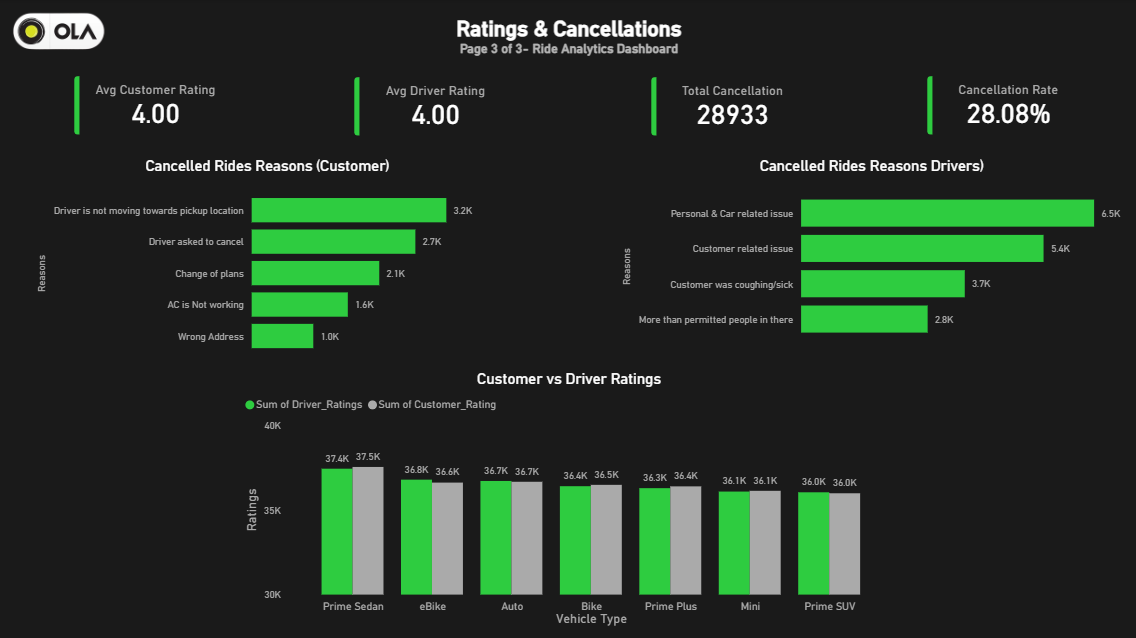

Layout of this report page (visuals, bound fields, positions):
{"tool":"powerbi","page":{"name":"Ratings & Cancellations","canvas":[1280,720],"ordinal":2},"visuals":[{"type":"image","box":[13.8,13.8,105,48.8],"z":0},{"type":"textbox","box":[413.8,14.1,452.4,91.2],"z":1000},{"type":"barChart","title":"Cancelled Rides Reasons (Customer)","fields":{"Category":["July.Canceled_Rides_by_Customer"],"Y":["CountNonNull(July.Canceled_Rides_by_Customer)"]},"box":[37.3,177.3,526.9,235.2],"z":2000},{"type":"barChart","title":"Cancelled Rides Reasons Drivers)","fields":{"Category":["July.Canceled_Rides_by_Driver"],"Y":["CountNonNull(July.Canceled_Rides_by_Driver)"]},"box":[695.3,177.3,570.6,219.8],"z":6000},{"type":"clusteredColumnChart","title":"Customer vs Driver Ratings","fields":{"Category":["July.Vehicle_Type"],"Y":["Sum(July.Driver_Ratings)","Sum(July.Customer_Rating)"]},"box":[269.9,417.7,740.2,293],"z":7000},{"type":"cardVisual","fields":{"Data":["Avg(July.Customer_Rating)"]},"box":[66.8,70.2,217.2,100.2],"z":7001},{"type":"cardVisual","fields":{"Data":["Avg(July.Driver_Ratings)"]},"box":[381.7,70.7,217.2,100.2],"z":7002},{"type":"cardVisual","fields":{"Data":["CountNonNull(July.Booking_Status)"]},"box":[715.8,70.7,217.2,100.2],"z":7003},{"type":"cardVisual","fields":{"Data":["July.CancelledPercentage"]},"box":[1025.5,70.2,217.2,100.2],"z":7004}]}

Visuals, with their boxes in screenshot pixels (x1, y1, x2, y2), scaled from the page's 1280x720 canvas onto the 1136x638 screenshot:
image: crop(12, 12, 105, 55)
textbox: crop(367, 12, 769, 93)
"Cancelled Rides Reasons (Customer)" barChart: crop(33, 157, 501, 366)
"Cancelled Rides Reasons Drivers)" barChart: crop(617, 157, 1123, 352)
"Customer vs Driver Ratings" clusteredColumnChart: crop(240, 370, 896, 630)
cardVisual - Avg(July.Customer_Rating): crop(59, 62, 252, 151)
cardVisual - Avg(July.Driver_Ratings): crop(339, 63, 532, 151)
cardVisual - CountNonNull(July.Booking_Status): crop(635, 63, 828, 151)
cardVisual - July.CancelledPercentage: crop(910, 62, 1103, 151)
